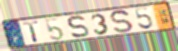3: (90, 13, 109, 36)
5: (133, 7, 155, 31), (44, 17, 66, 41)
S: (65, 15, 91, 40), (110, 10, 135, 34)
T: (22, 20, 41, 43)
